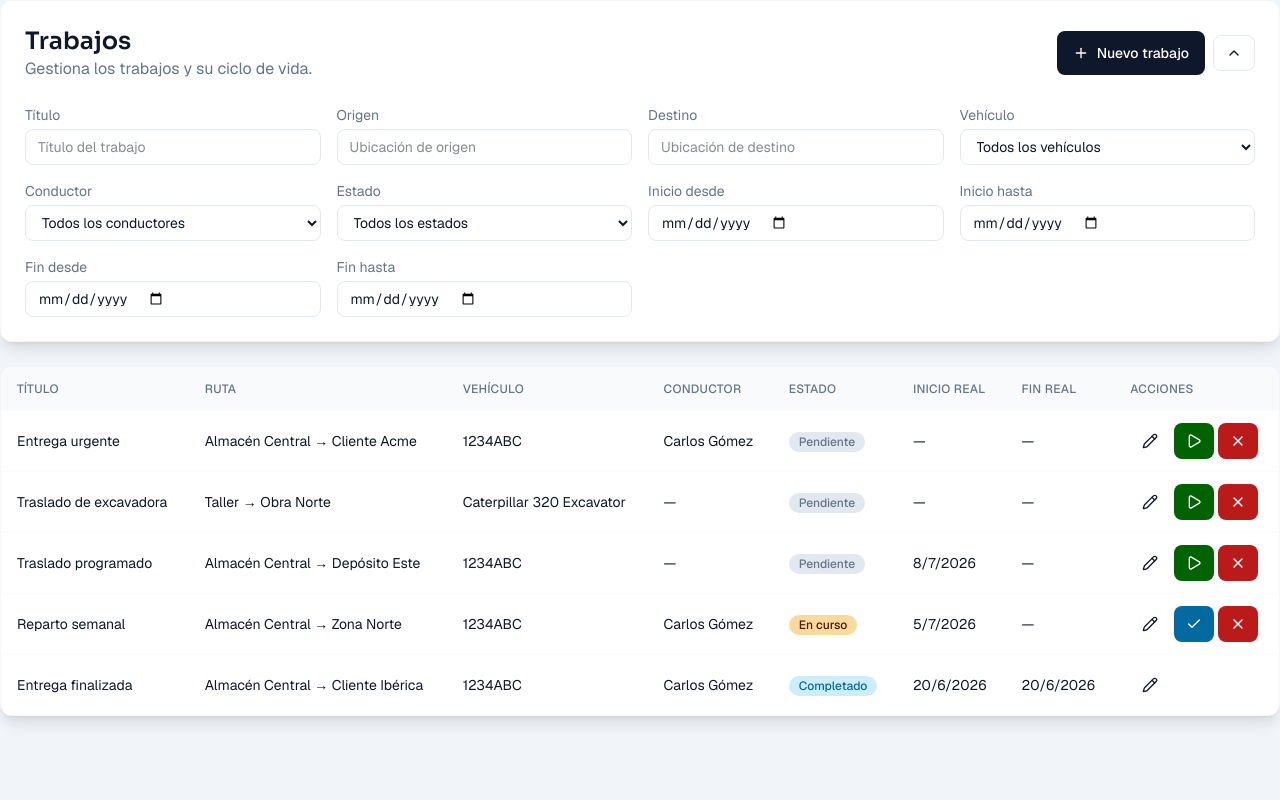
Test case: Jobs › starting a job transitions its status badge from Pendiente to En curso
Expected: the text "Pendiente" in the row of "Entrega urgente" is shown, [799,434,855,450]
Click the button named "iniciar" in the row of "Entrega urgente". click: click(1194, 441)
box: [1174,423,1214,459]
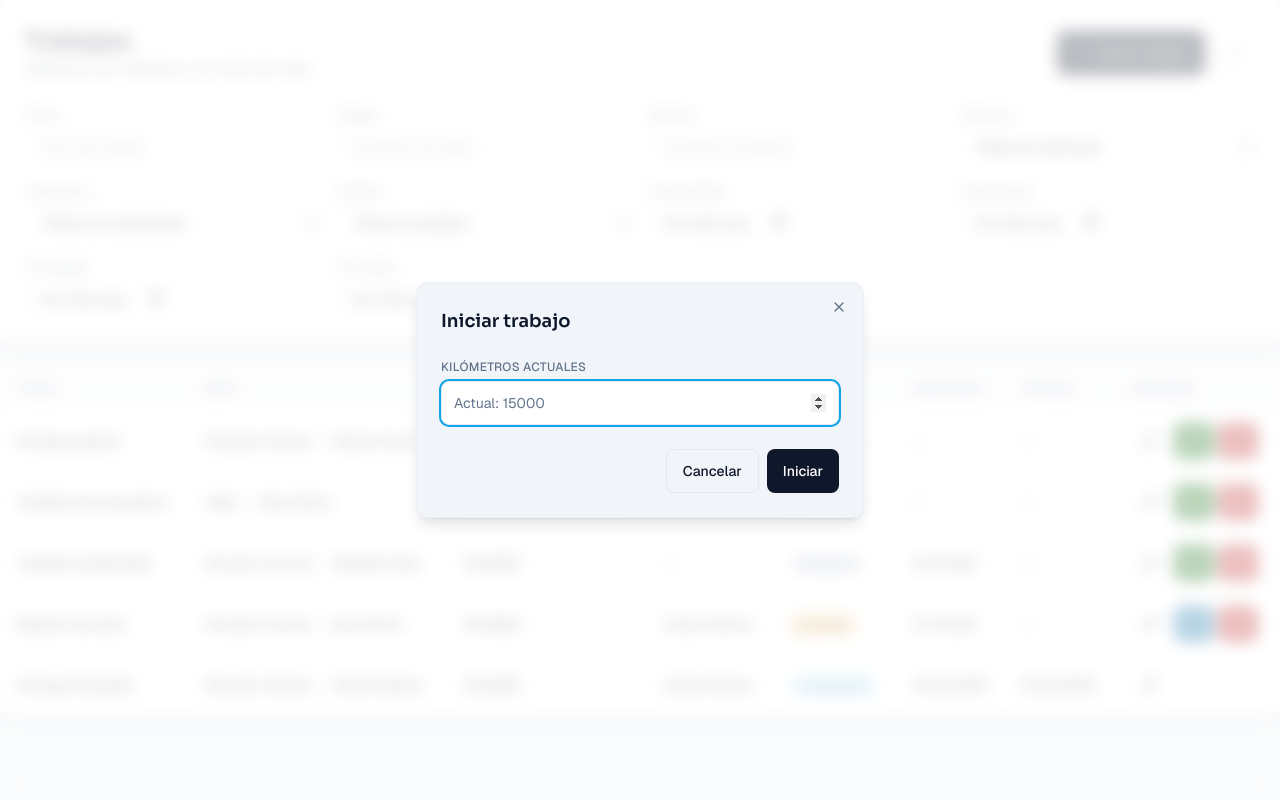
Click the button "Iniciar". click: click(803, 471)
box: [767,449,839,493]
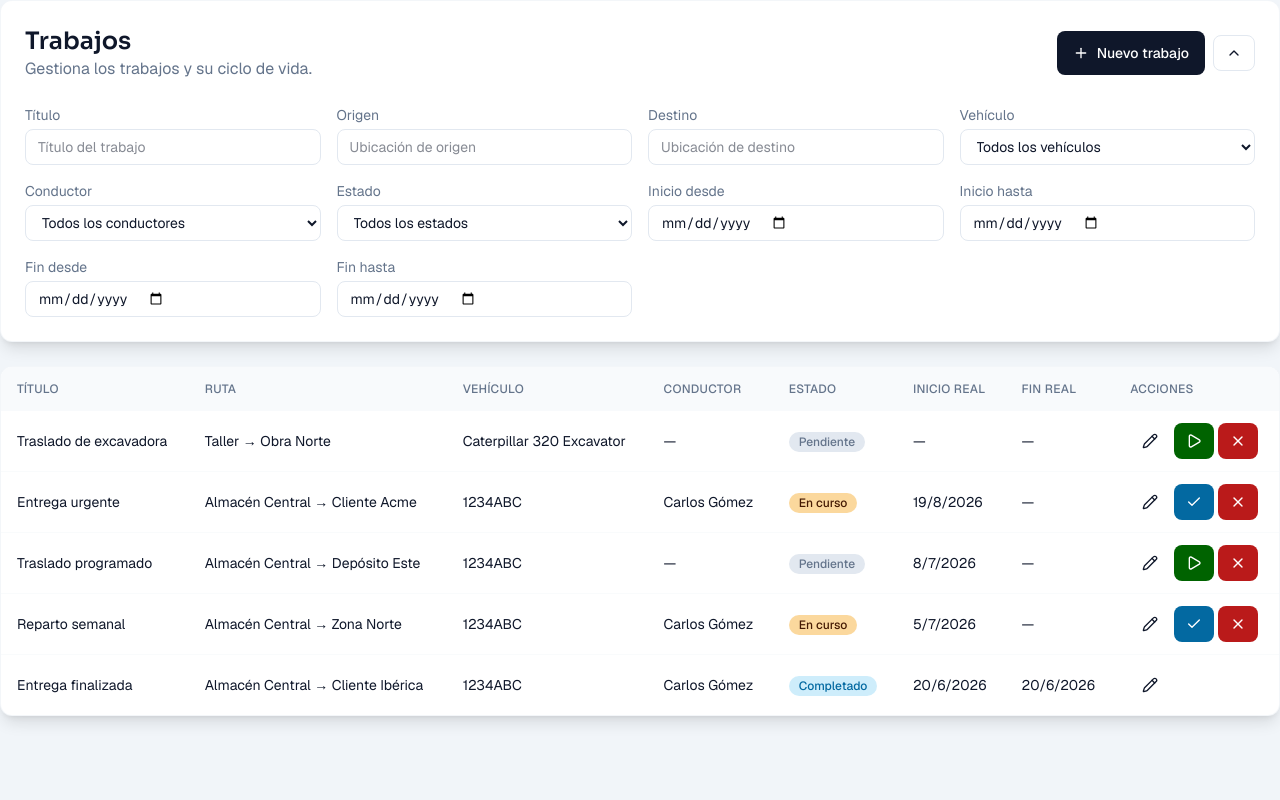
Expected: the text "En curso" in the row of "Entrega urgente" is shown, [799,494,847,510]
Expected: the button named "completar" in the row of "Entrega urgente" is shown, [1174,484,1214,520]
